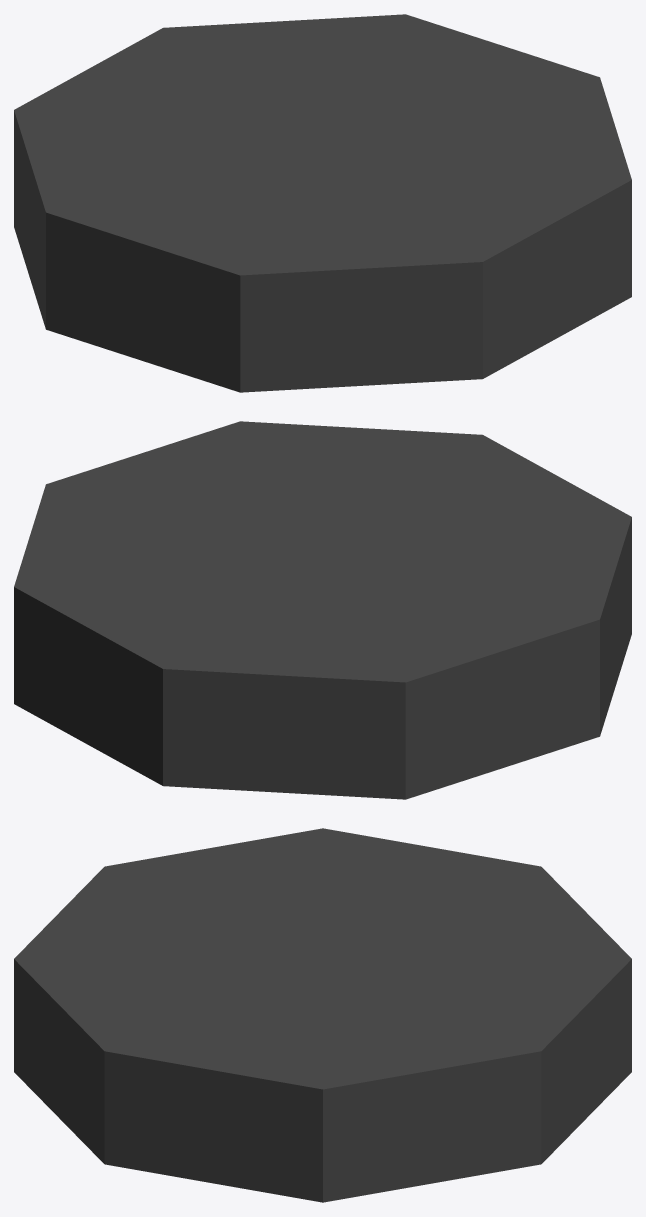
Rendered from Light_02.fbx.
3 renders of one model, top to bottom at view 1: azimuth 30°, elevation 25°; view 2: azimuth 150°, elevation 25°; view 3: azimuth 270°, elevation 25°, orthographic. The views are drawn at different scales.
Parts seen in each view (by area): view 1: Light_02; view 2: Light_02; view 3: Light_02.
Part boxes in pixels (x1=…): Light_02: x1=14, y1=14, x2=631, y2=392; Light_02: x1=14, y1=421, x2=631, y2=799; Light_02: x1=14, y1=828, x2=631, y2=1202.
Size of the model in its own units: 37.33 by 7.54 by 37.33.
